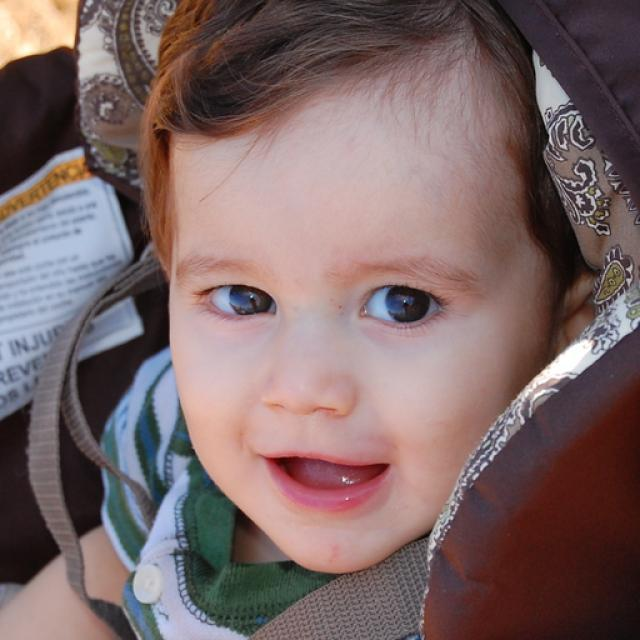happy: (163, 30, 562, 576)
